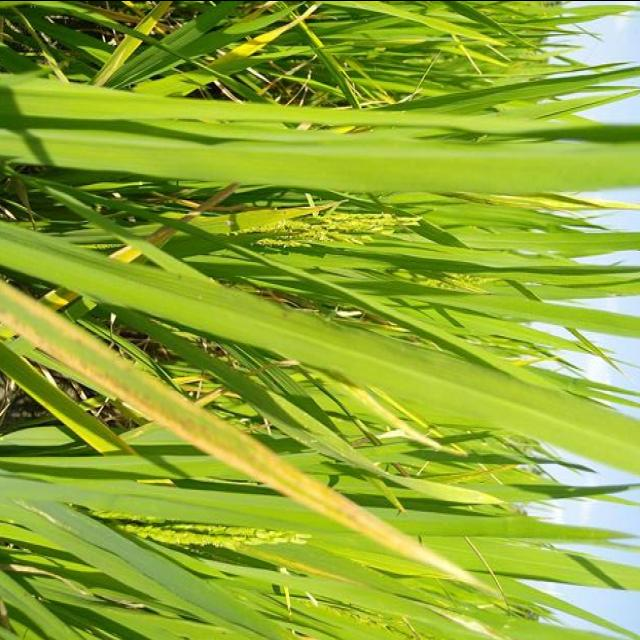Leaf Streak: (0, 277, 507, 606), (333, 380, 442, 446), (182, 183, 239, 220), (38, 286, 79, 310), (144, 225, 175, 247), (110, 244, 141, 262)
